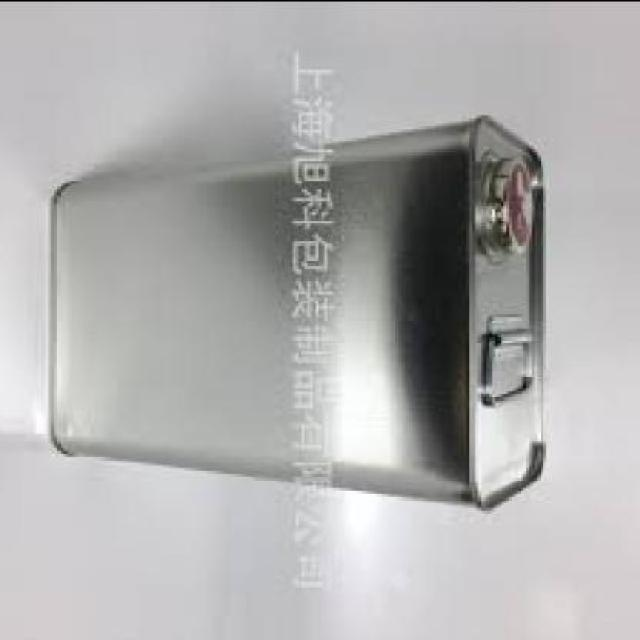METAL: (57, 108, 549, 506)
